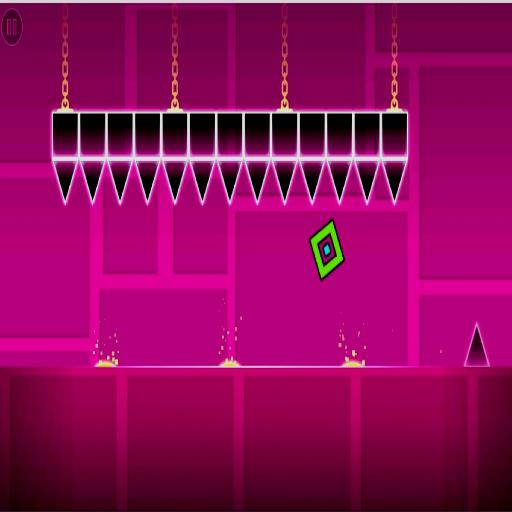block: (51, 111, 409, 161)
player: (310, 219, 345, 279)
spike: (464, 323, 489, 366), (383, 160, 407, 203), (218, 160, 242, 203), (136, 160, 160, 203), (54, 160, 78, 203), (356, 160, 379, 204), (328, 160, 352, 202), (164, 160, 187, 203), (109, 160, 132, 203), (81, 160, 104, 203), (301, 160, 324, 202), (246, 160, 269, 202), (192, 161, 214, 203), (274, 161, 296, 202)
